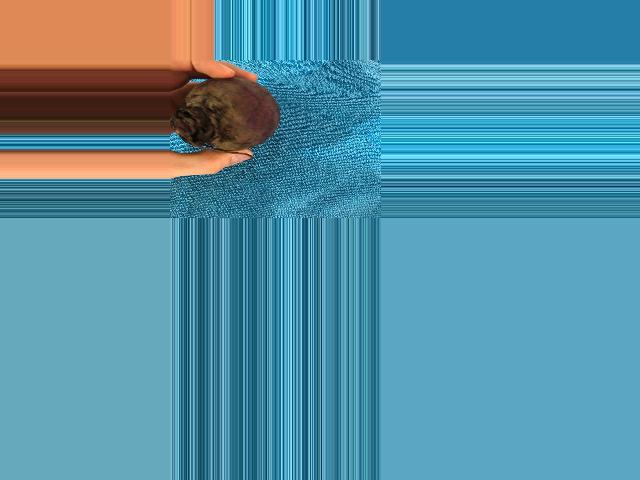beet: (171, 77, 279, 160)
